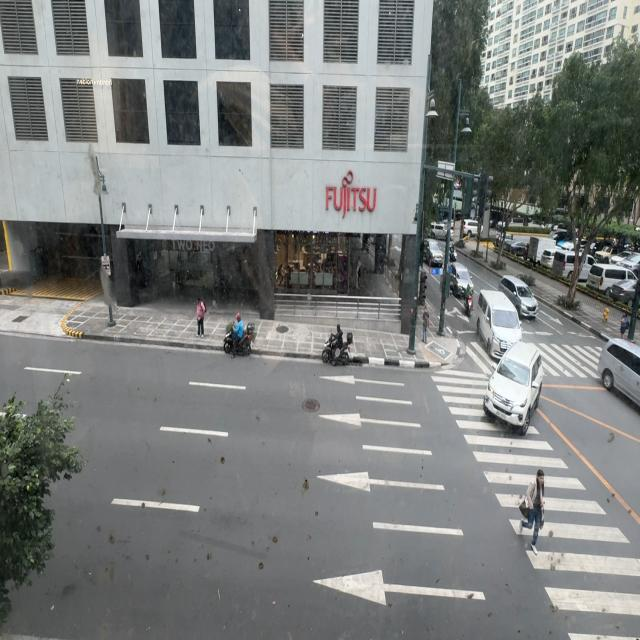crossing: (513, 468, 541, 554)
pedestrain: (197, 298, 207, 340), (422, 308, 429, 343)
waiting: (621, 313, 630, 337)
